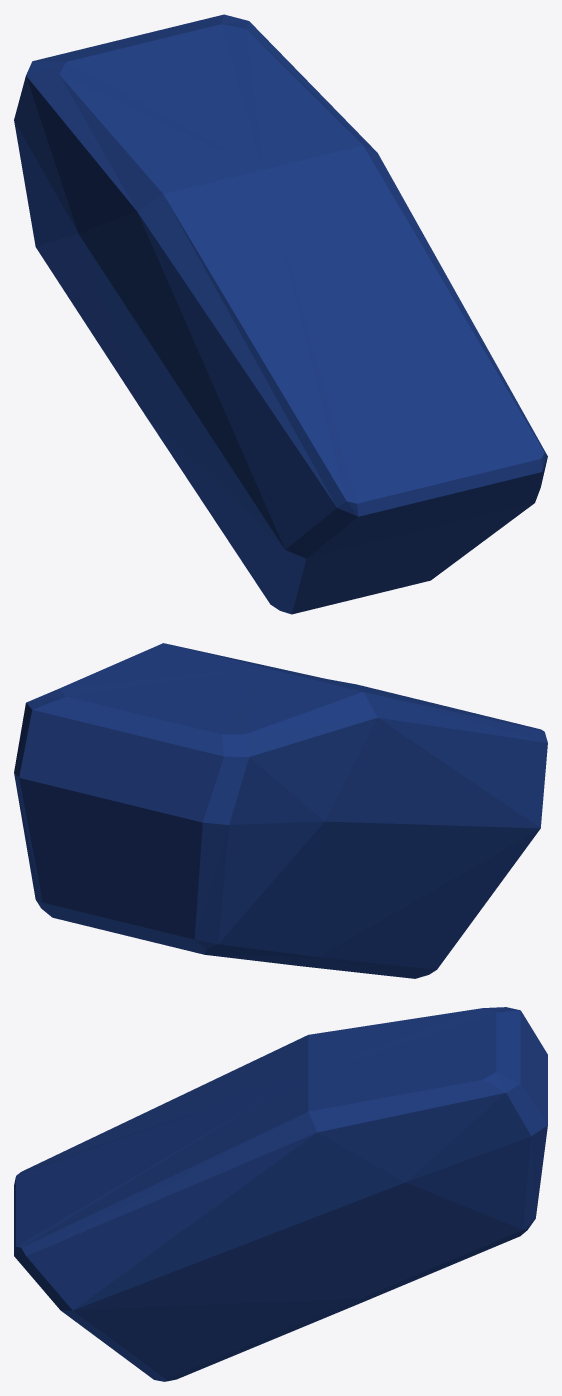
The model's file is rx78_object_082-lib.dae.
3 renders of one model, top to bottom at view 1: azimuth 30°, elevation 25°; view 2: azimuth 150°, elevation 25°; view 3: azimuth 270°, elevation 25°, orthographic. The views are drawn at different scales.
Visible parts, largest first — view 1: rx78_object_082Mesh-node; view 2: rx78_object_082Mesh-node; view 3: rx78_object_082Mesh-node.
Part boxes in pixels (x1,y1,x2,y2): rx78_object_082Mesh-node: (14, 14, 547, 614); rx78_object_082Mesh-node: (14, 643, 547, 978); rx78_object_082Mesh-node: (14, 1007, 547, 1381).
Bounding box in the file's own units: 11.97 × 17.69 × 27.52.
